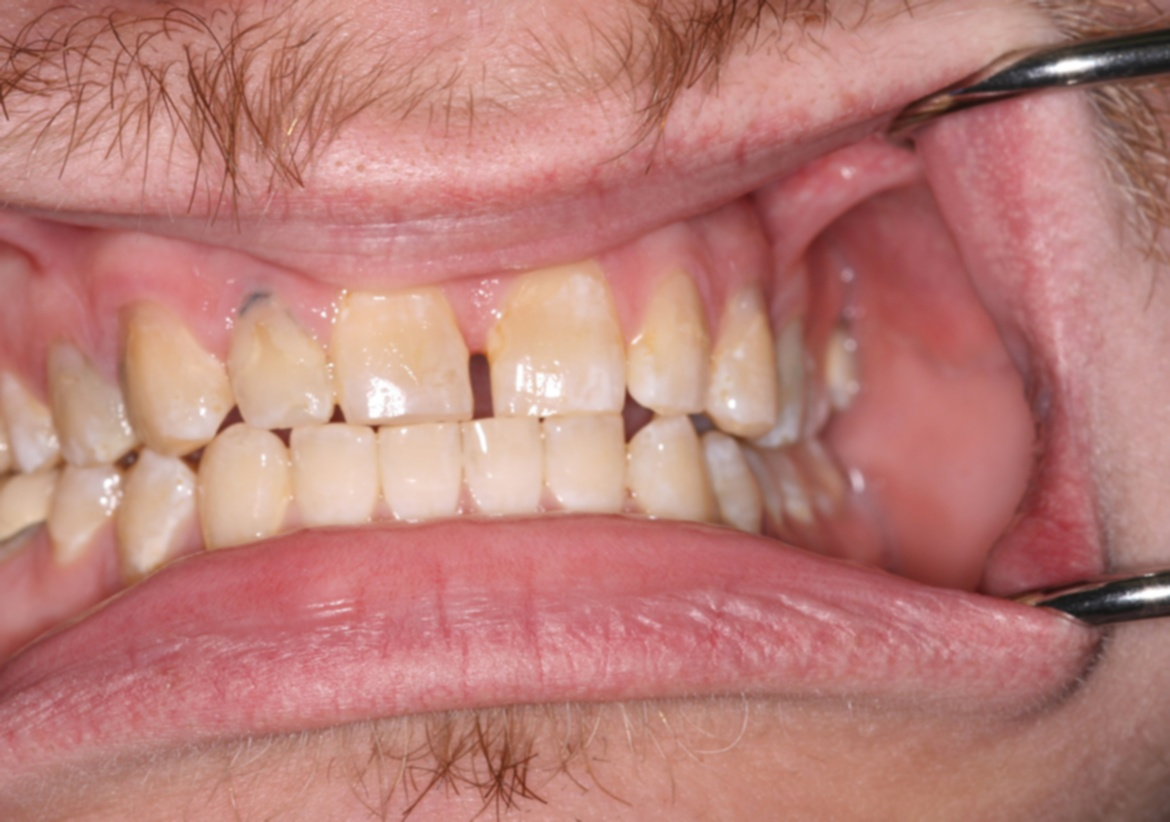karies: (231, 283, 283, 320), (1, 516, 46, 555)
